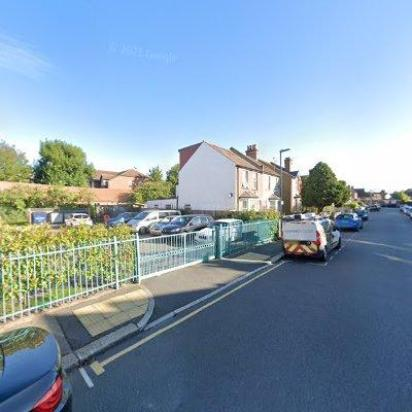stationary-car-offstreet: (162, 213, 215, 249), (191, 217, 244, 246), (148, 215, 188, 237), (63, 212, 92, 232), (106, 212, 140, 228)
stationary-car-onstreet: (0, 323, 72, 411), (333, 212, 362, 232), (355, 209, 369, 221)
stationary-light-truck-offstreet: (126, 209, 182, 235)
stationary-light-truck-onstreet: (280, 217, 342, 261)
